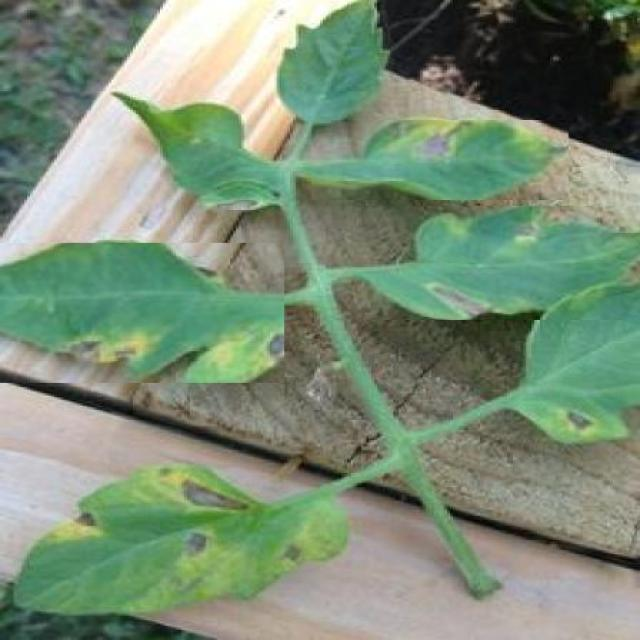Early Blight: (24, 463, 344, 616), (0, 243, 284, 383), (354, 206, 640, 320), (312, 120, 569, 200)
